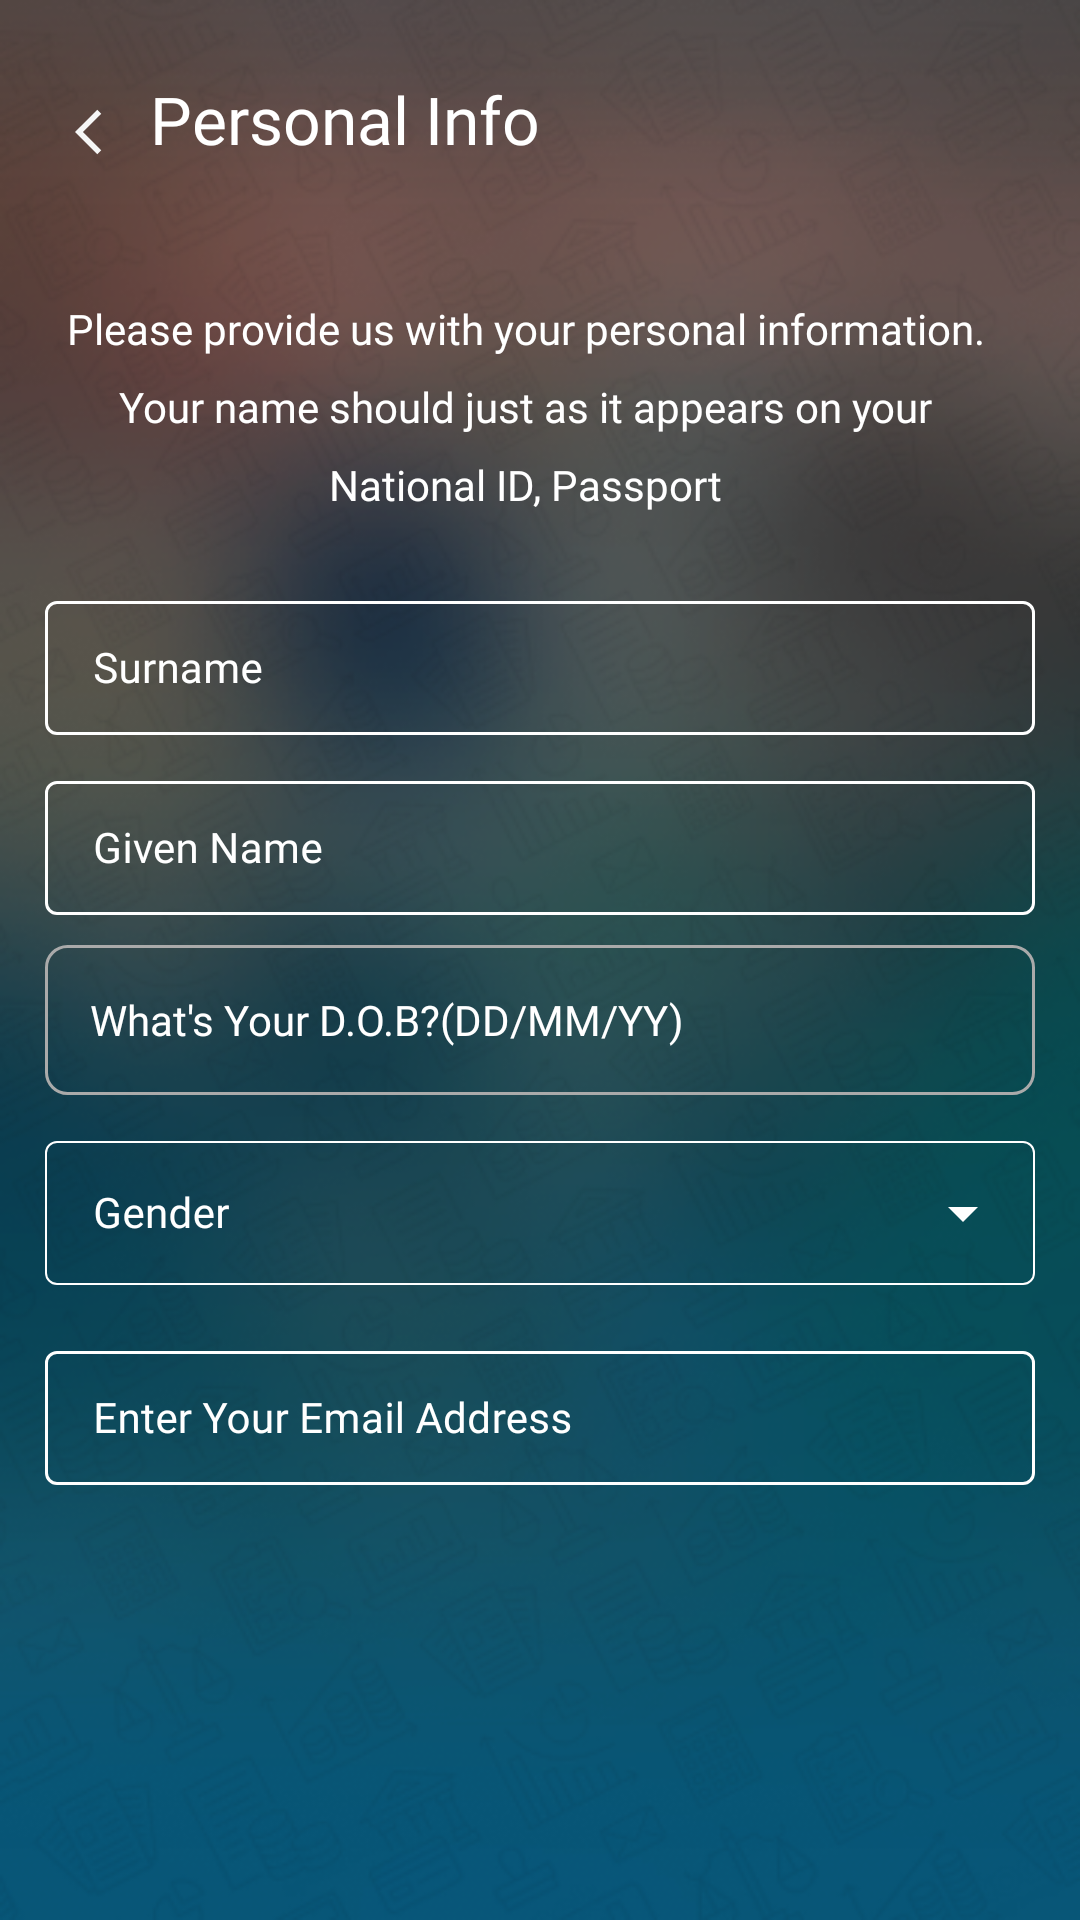

Where to tap for icons on this 1080x1920 app screen, as (x,y):
back: (88,132)
